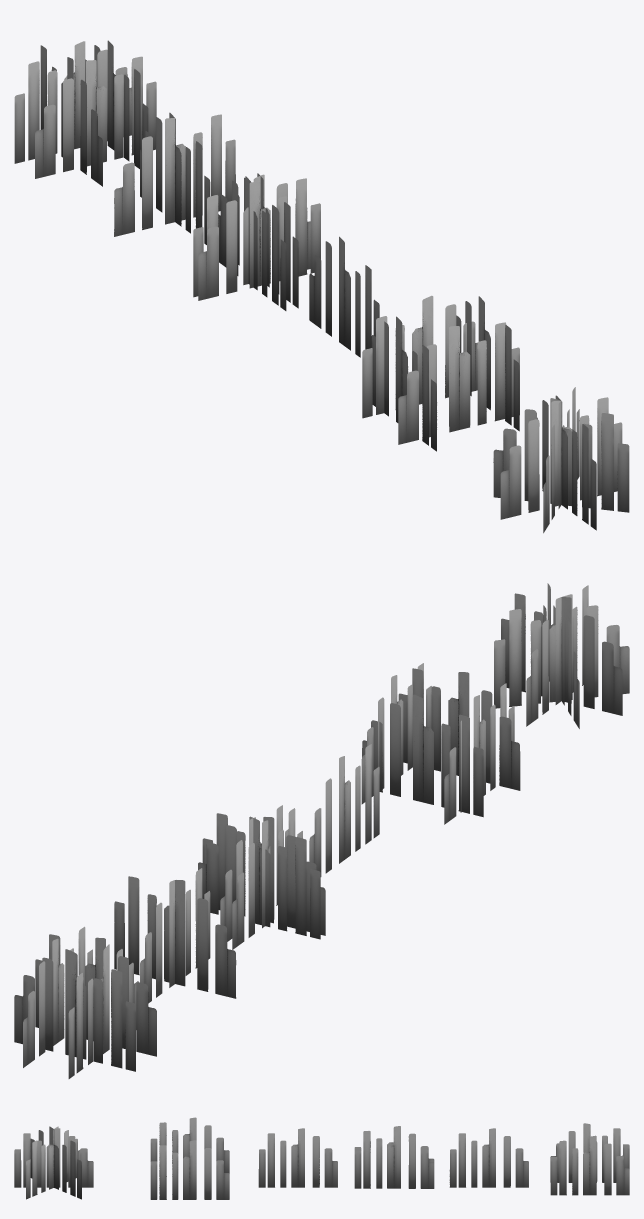
Rendered from Grass.fbx.
3 views of the same model, one above another, from view 1: azimuth 30°, elevation 25°; view 2: azimuth 150°, elevation 25°; view 3: azimuth 270°, elevation 25° (orthographic). The views are drawn at different scales.
Visible parts, largest first — view 1: Grama.Minecraft, Grama.003, Grama.004, Grama.Certa, Grama.002, Grama.001; view 2: Grama.Minecraft, Grama.003, Grama.004, Grama.Certa, Grama.002, Grama.001; view 3: Grama.Minecraft, Grama.004, Grama.003, Grama.Certa, Grama.001, Grama.002.
Part boxes in pixels (box(x1,y1,x2,y2)): Grama.Minecraft: box(362, 295, 519, 451); Grama.003: box(14, 40, 156, 186); Grama.004: box(493, 387, 629, 533); Grama.Certa: box(193, 173, 320, 310); Grama.002: box(114, 112, 235, 244); Grama.001: box(309, 236, 379, 357); Grama.Minecraft: box(361, 663, 520, 824); Grama.003: box(14, 926, 156, 1078); Grama.004: box(494, 583, 629, 728); Grama.Certa: box(198, 805, 325, 949); Grama.002: box(114, 868, 236, 1003); Grama.001: box(309, 744, 379, 876); Grama.Minecraft: box(150, 1117, 229, 1199); Grama.004: box(14, 1126, 93, 1199); Grama.003: box(550, 1123, 629, 1195); Grama.Certa: box(354, 1126, 434, 1188); Grama.001: box(258, 1128, 337, 1187); Grama.002: box(449, 1128, 528, 1187).
Size of the model in its own units: 204 by 171 by 1543.
